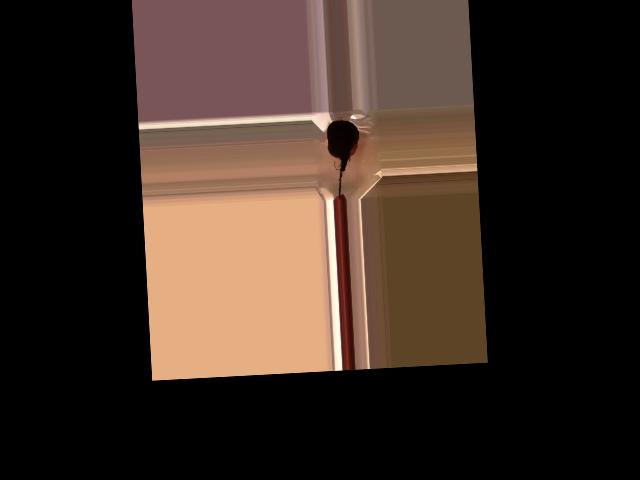beet: (326, 119, 363, 197)
